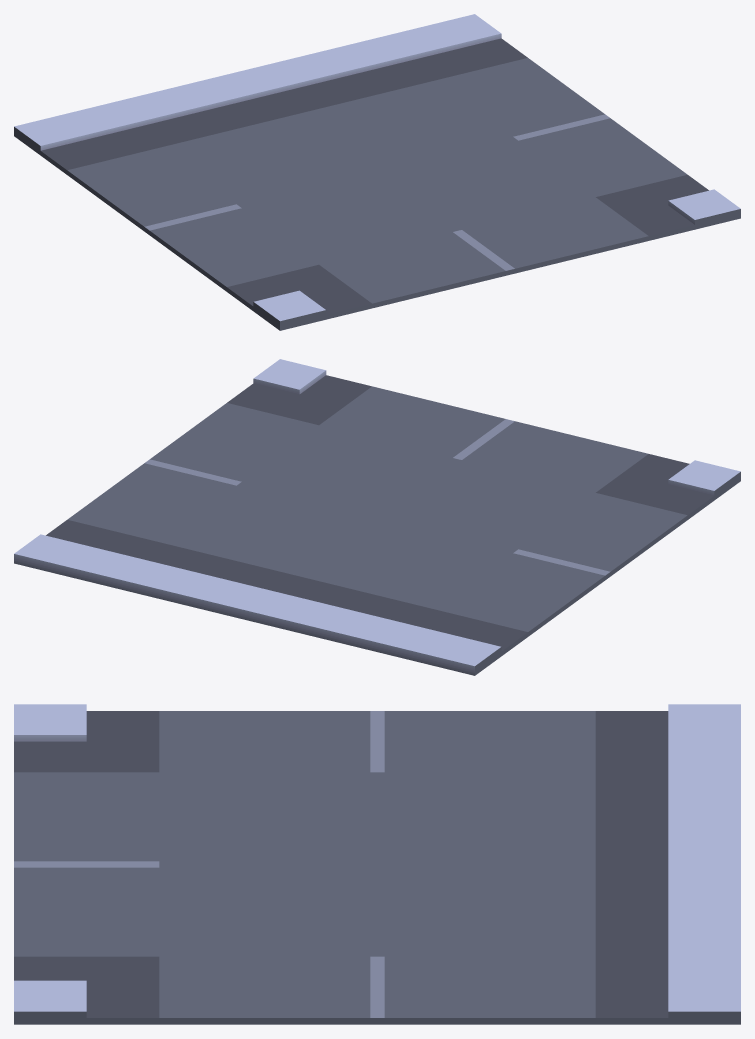
Rendered from road-intersection.glb.
The picture shows the model from 3 angles, top to bottom: view 1: azimuth 30°, elevation 25°; view 2: azimuth 150°, elevation 25°; view 3: azimuth 270°, elevation 25°; orthographic projection. The views are drawn at different scales.
Parts seen in each view (by area): view 1: road-intersection; view 2: road-intersection; view 3: road-intersection.
Boxes of the visible parts, left/top/right/bottom form: road-intersection: left=14, top=14, right=740, bottom=330; road-intersection: left=14, top=359, right=740, bottom=675; road-intersection: left=14, top=704, right=740, bottom=1024.
Bounding box in the file's own units: 8 × 0.1602 × 8.
Materials: 1 (1 with a texture image).
